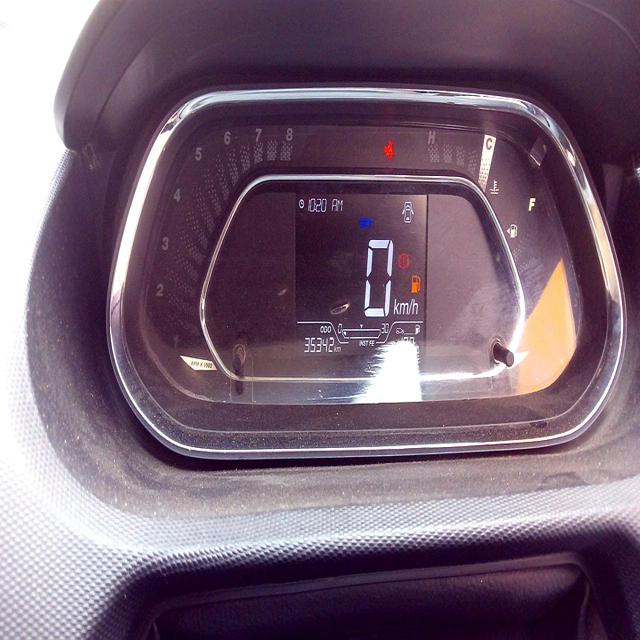odometer: (302, 332, 334, 355)
